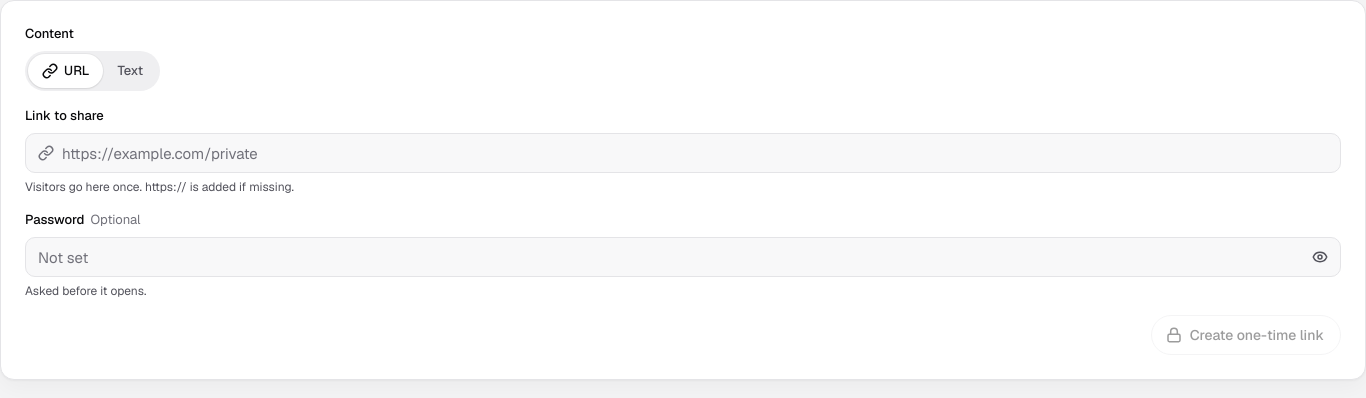
Test case: OneTimeLinkForm (dashboard) › shows the server error and keeps what was typed
Type "example.com" into the field labelled "Link to share" at [695, 153], box [62,134,1328,172]
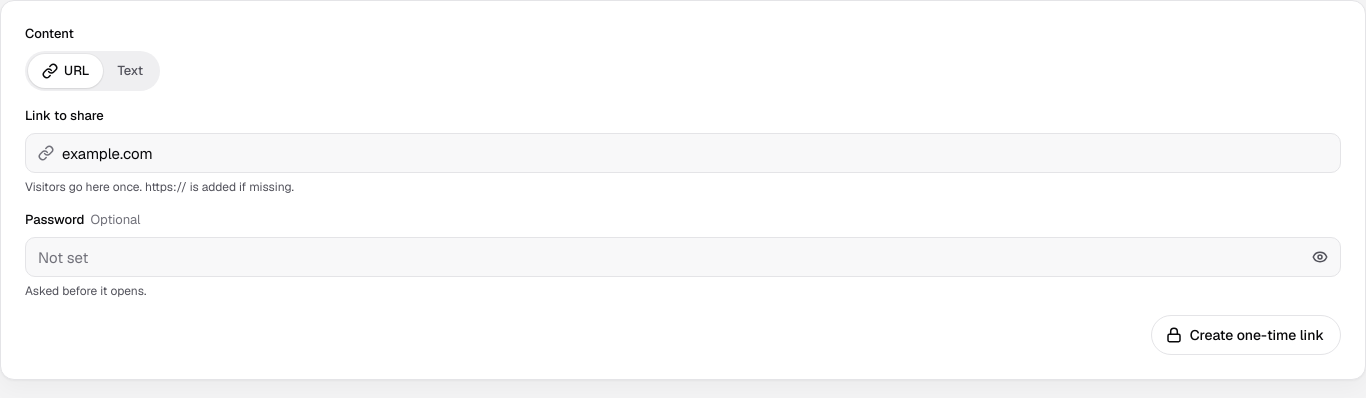
Click the button "Create one-time link" at [1246, 335], box [1151,315,1341,355]
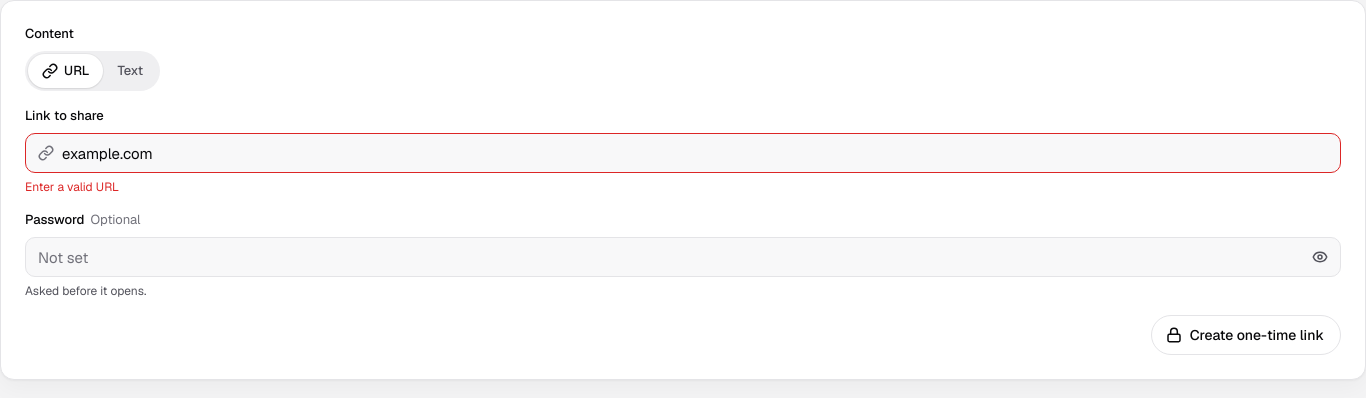
Expected: the text "Enter a valid URL" is shown, [25,179,119,195]
